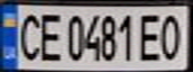0: (60, 11, 84, 62)
1: (115, 11, 139, 62)
4: (81, 10, 103, 62)
8: (100, 11, 121, 62)
C: (12, 8, 45, 62)
E: (33, 8, 63, 63), (136, 10, 166, 62)
O: (154, 10, 187, 62)
